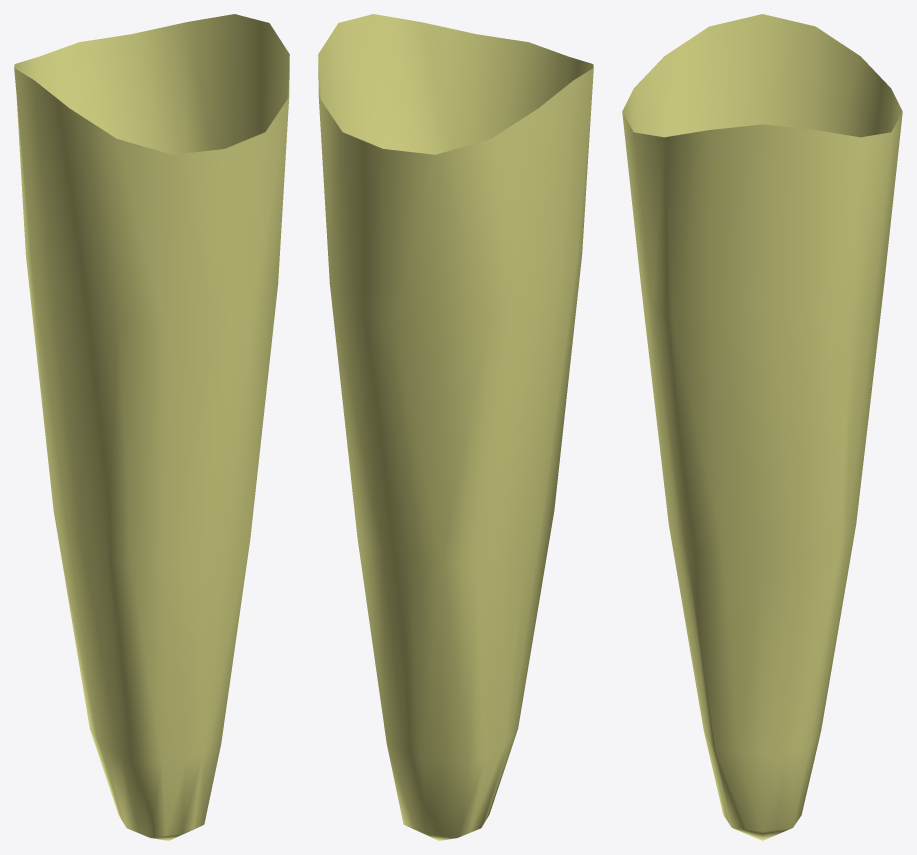
The model's file is D73R_Raiz.obj.
3 views of the same model, side by side, from view 1: azimuth 30°, elevation 25°; view 2: azimuth 150°, elevation 25°; view 3: azimuth 270°, elevation 25° (orthographic). The views are drawn at different scales.
Visible parts, largest first — view 1: D73R_Raiz; view 2: D73R_Raiz; view 3: D73R_Raiz.
Part boxes in pixels (box(x1,y1,x2,y2)): D73R_Raiz: box(14, 14, 289, 840); D73R_Raiz: box(318, 14, 593, 840); D73R_Raiz: box(622, 14, 902, 840).
Bounding box in the file's own units: 3.75 × 12.09 × 4.02.
